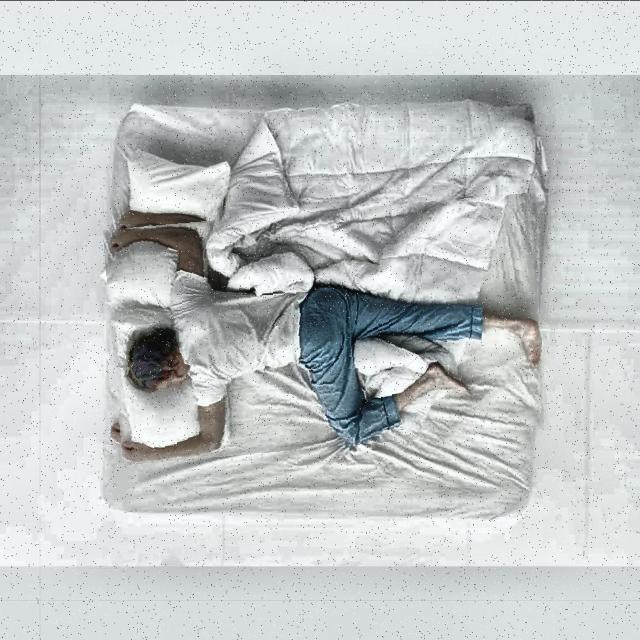Not_Supine: (109, 226, 542, 460)
